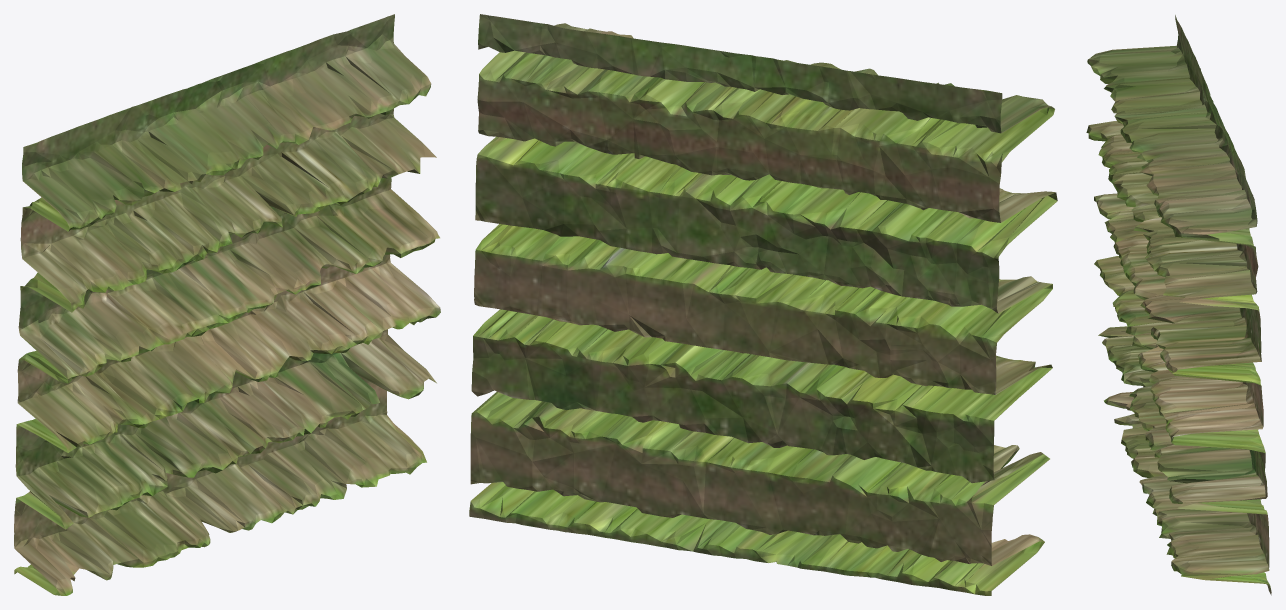
Rendered from map_230_40.obj.
3 renders of one model, left to right at view 1: azimuth 30°, elevation 25°; view 2: azimuth 150°, elevation 25°; view 3: azimuth 270°, elevation 25°, orthographic. The views are drawn at different scales.
Visible parts, largest first — view 1: grp1; view 2: grp1; view 3: grp1.
Part boxes in pixels (x1=…): grp1: x1=14, y1=14, x2=440, y2=595; grp1: x1=469, y1=14, x2=1057, y2=595; grp1: x1=1086, y1=15, x2=1271, y2=595.
Bounding box in the file's own units: 10 × 10 × 4.23.
Materials: 1 (1 with a texture image).
